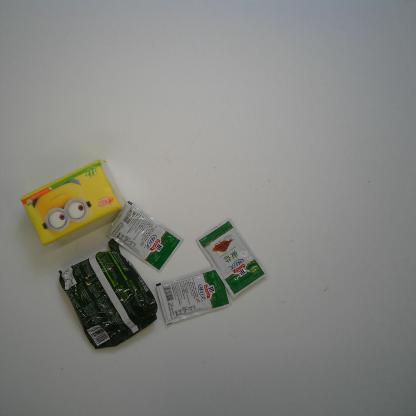Instant Noodles: (58, 236, 158, 351)
Seasoner: (195, 216, 267, 299), (104, 200, 184, 274), (156, 264, 232, 326)
Tissue: (18, 158, 127, 247)
